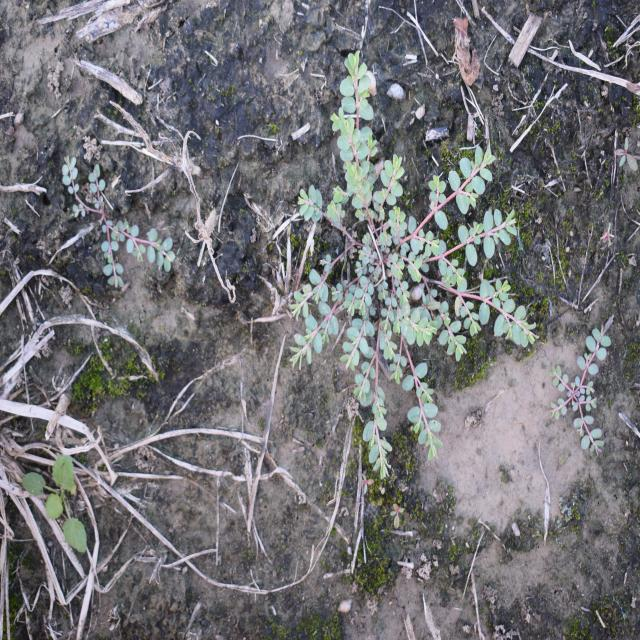PricklySida: (20, 450, 89, 554)
SpottedSpurge: (284, 47, 540, 482), (61, 153, 177, 291), (547, 312, 616, 461)
